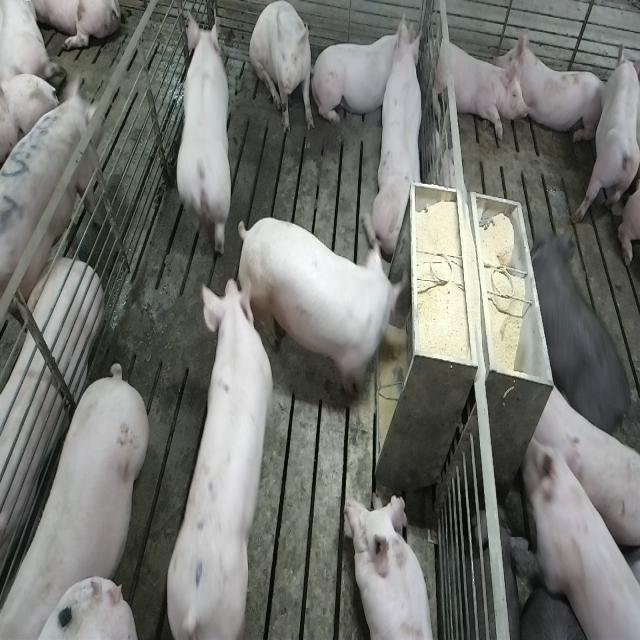Feeding: (233, 224, 407, 412)
Lateral_lying: (0, 258, 101, 598)
Sitting: (370, 14, 427, 263), (250, 3, 314, 137)
Standing: (157, 272, 269, 640), (5, 360, 153, 636), (0, 79, 100, 336), (520, 434, 638, 638), (530, 237, 637, 451), (524, 382, 638, 554), (178, 14, 234, 260)
Sternal_lying: (346, 489, 437, 640), (496, 23, 607, 146), (567, 38, 638, 226), (424, 30, 522, 140), (316, 22, 420, 124)
